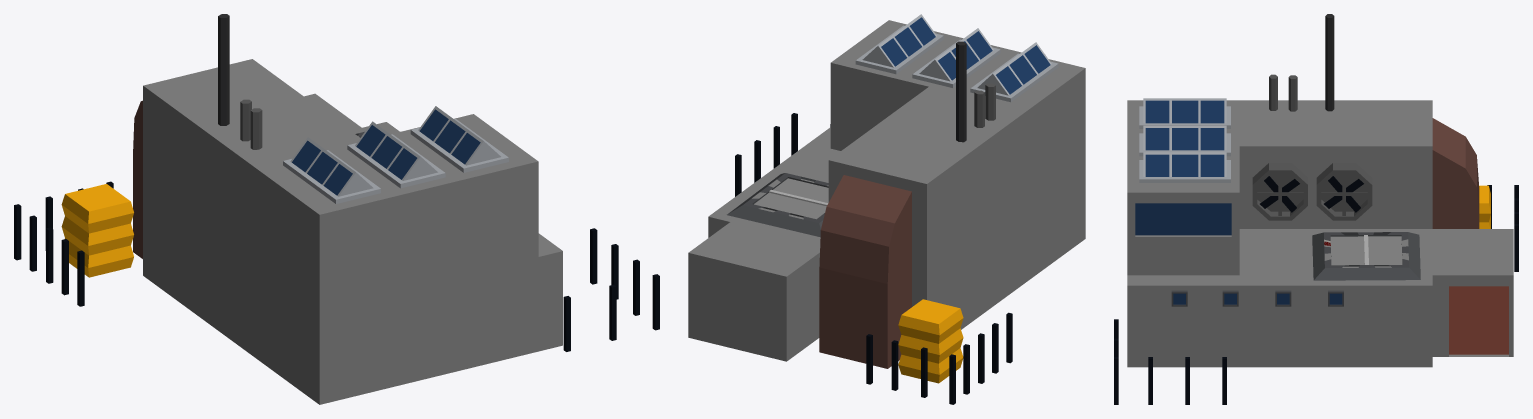
Rendered from MicroFactory.fbx.
3 views of the same model, side by side, from view 1: azimuth 30°, elevation 25°; view 2: azimuth 150°, elevation 25°; view 3: azimuth 270°, elevation 25° (orthographic). The views are drawn at different scales.
Visible parts, largest first — view 1: base, base.005; view 2: base, base.005; view 3: base, base.005, Glow, wind.005, wind.004.
Part boxes in pixels (x1,y1,x2,y2): base: [14, 14, 659, 404]; base.005: [292, 109, 480, 195]; base: [688, 14, 1085, 404]; base.005: [881, 17, 1050, 94]; base: [1114, 14, 1518, 404]; base.005: [1135, 100, 1342, 304]; Glow: [1257, 174, 1367, 245]; wind.005: [1324, 176, 1363, 212]; wind.004: [1260, 176, 1299, 212].
Size of the model in its own units: 391 by 270 by 385.
